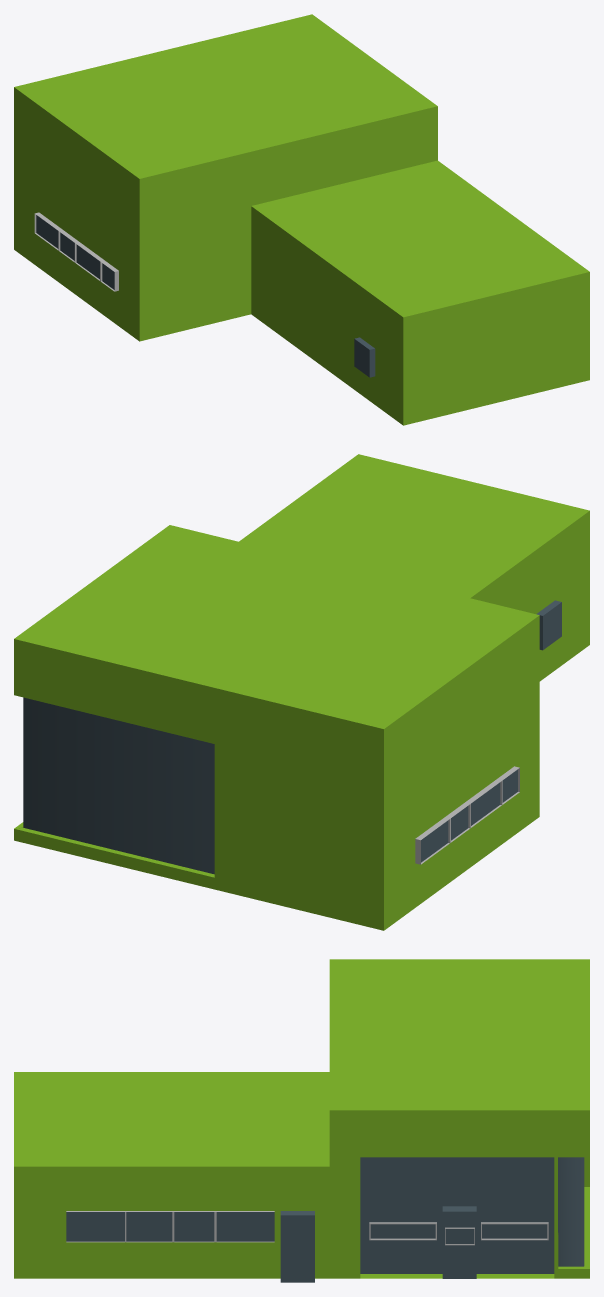
3 views of the same model, one above another, from view 1: azimuth 30°, elevation 25°; view 2: azimuth 150°, elevation 25°; view 3: azimuth 270°, elevation 25° (orthographic). The views are drawn at different scales.
Visible parts, largest first — view 1: A16; view 2: A16; view 3: A16, Entrance.
Boxes of the visible parts, x1,y1,x2,y2 form: A16: (14, 14, 589, 425); A16: (14, 454, 589, 930); A16: (14, 959, 589, 1278); Entrance: (280, 1211, 314, 1282).
Bounding box in the file's own units: 10.02 × 5 × 15.48.
